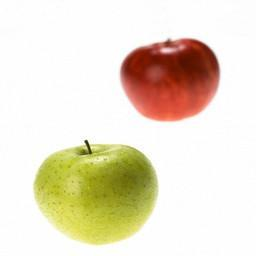apple: (33, 143, 159, 249), (119, 37, 220, 126)
